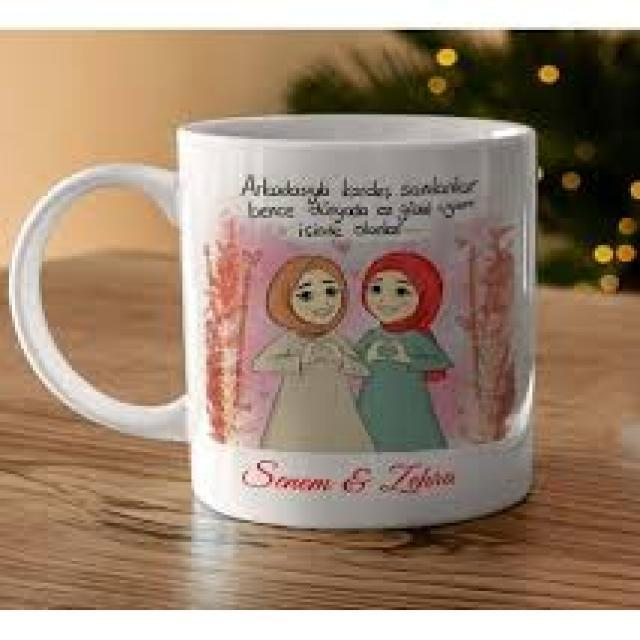taza: (8, 112, 536, 532)
